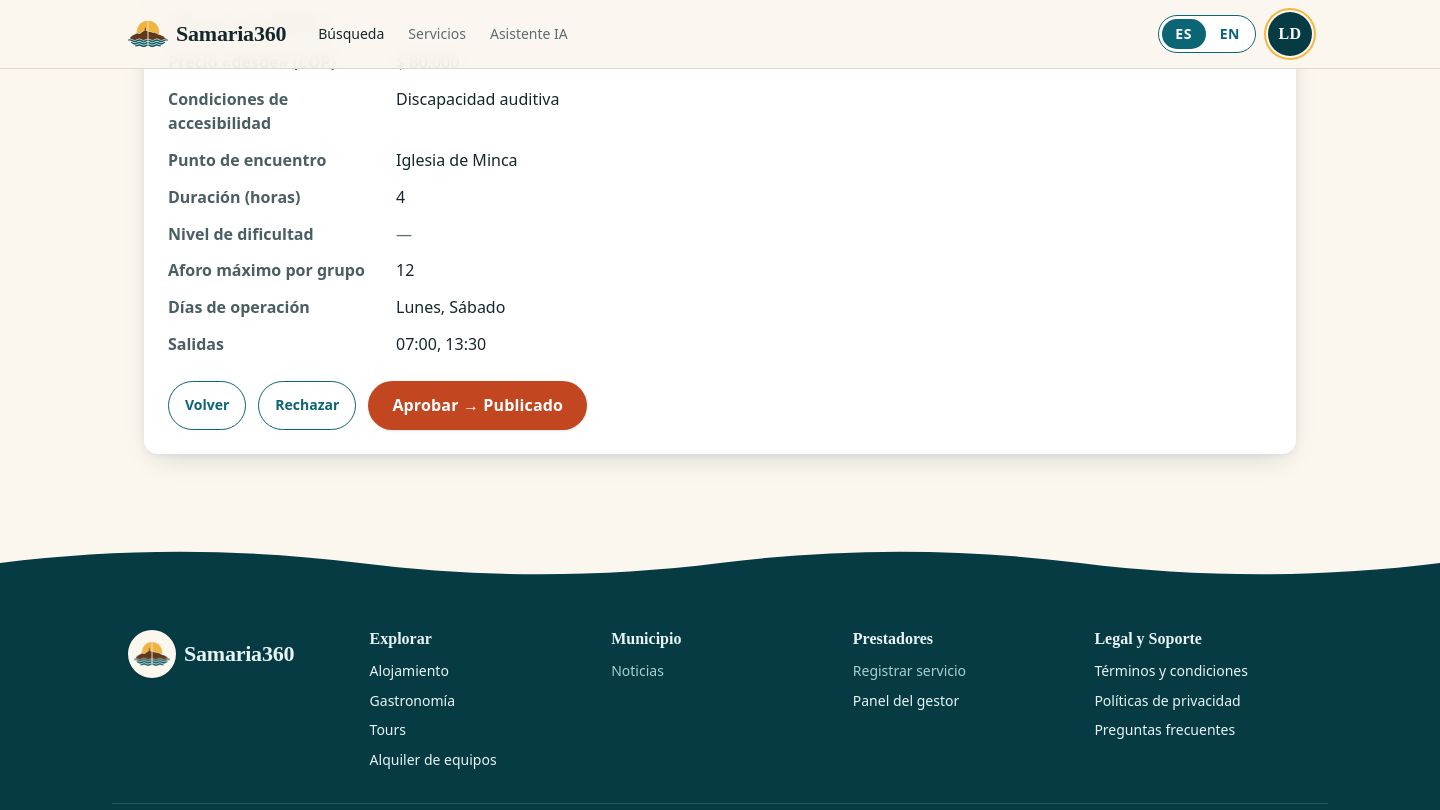
Test: Rechazar con justificación («Justificar rechazo de servicio», DEC-177) › un 400 DATOS_INVALIDOS de la justificación se muestra junto al campo y el diálogo sigue abierto
The image size is (1440, 810).
(page scrolled)
Click the button "Rechazar": (307,405) [258,381,356,430]
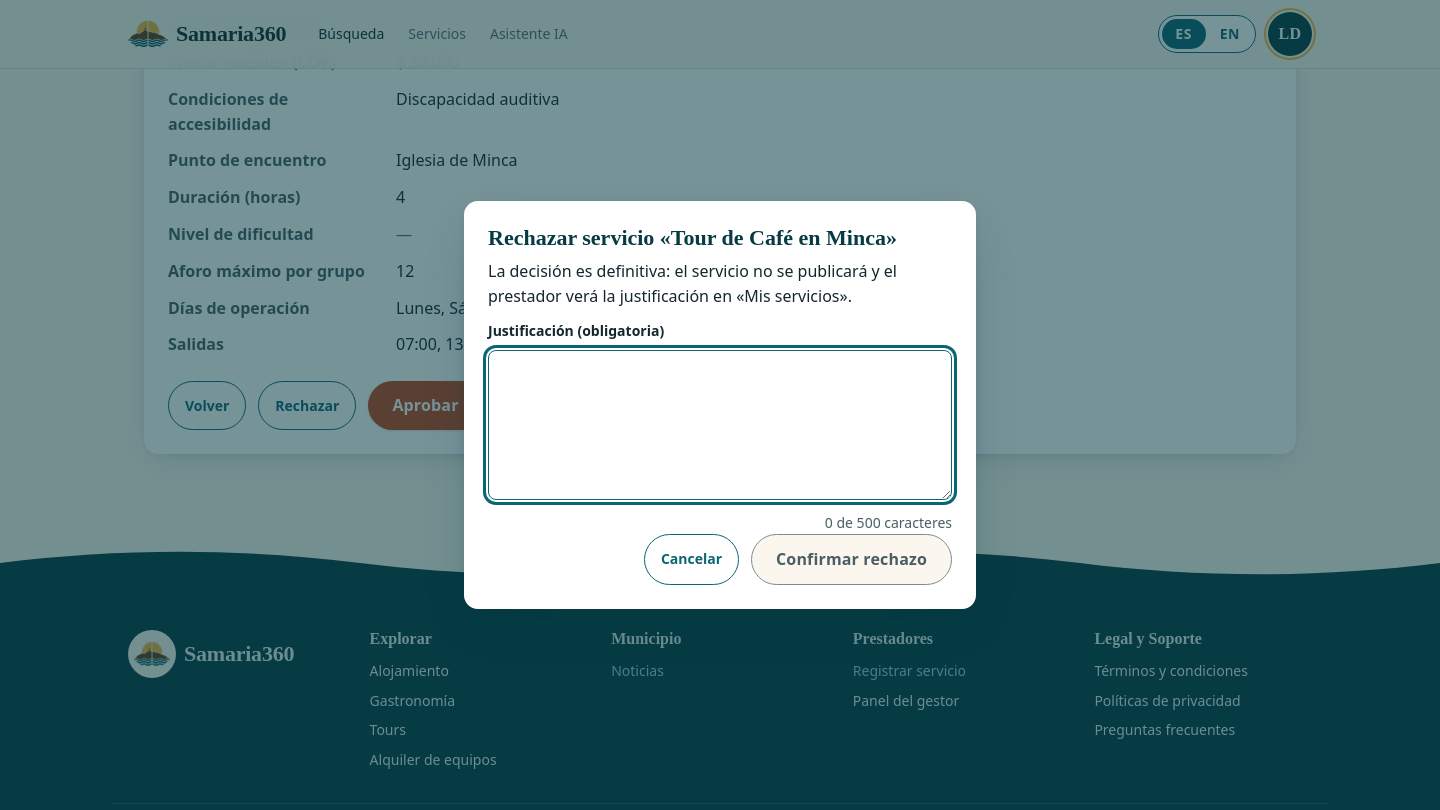
In the text box labelled "Justificación (obligatoria)": (720,425) [488,350,952,500], type "x"
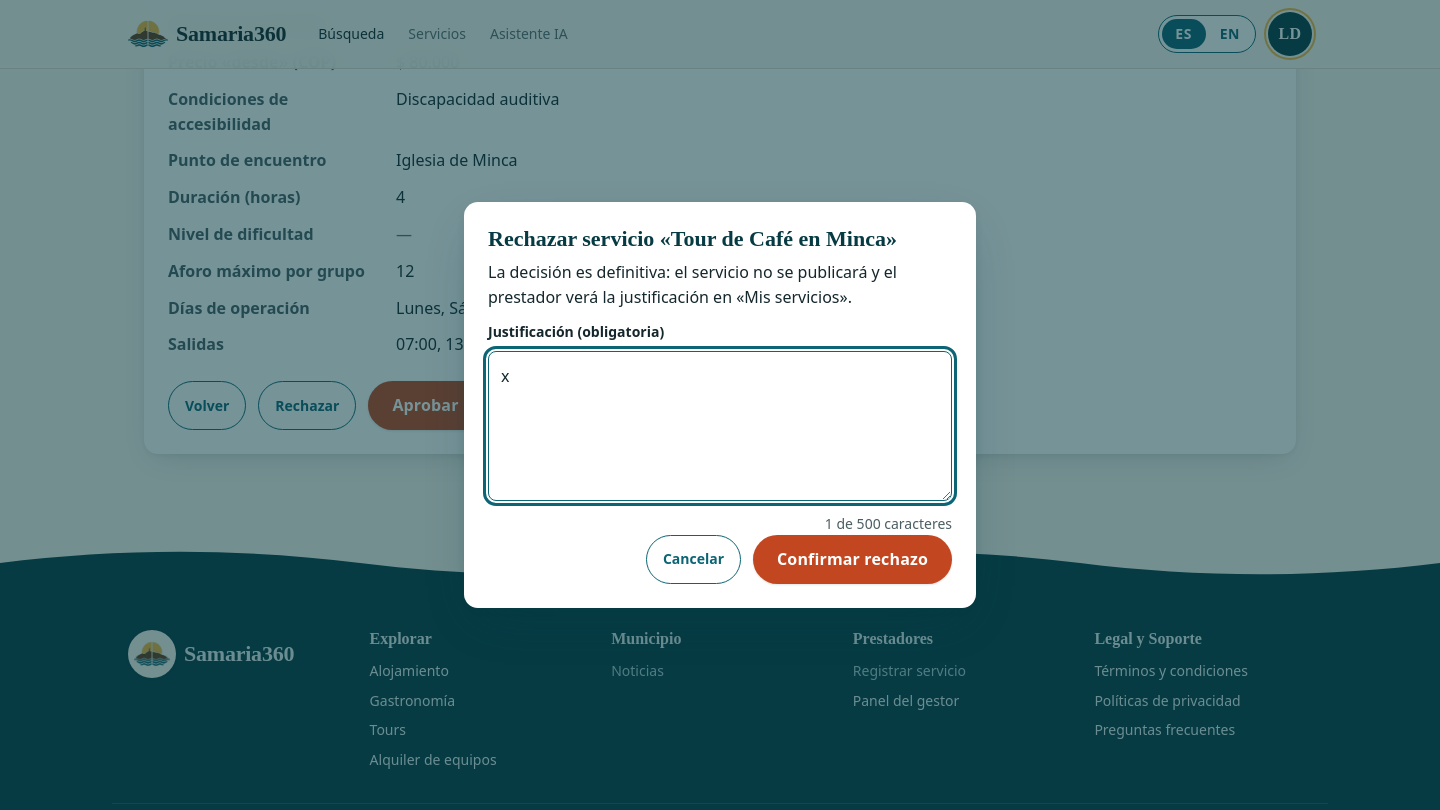
Click the button "Confirmar rechazo": (852,559) [753,535,952,584]
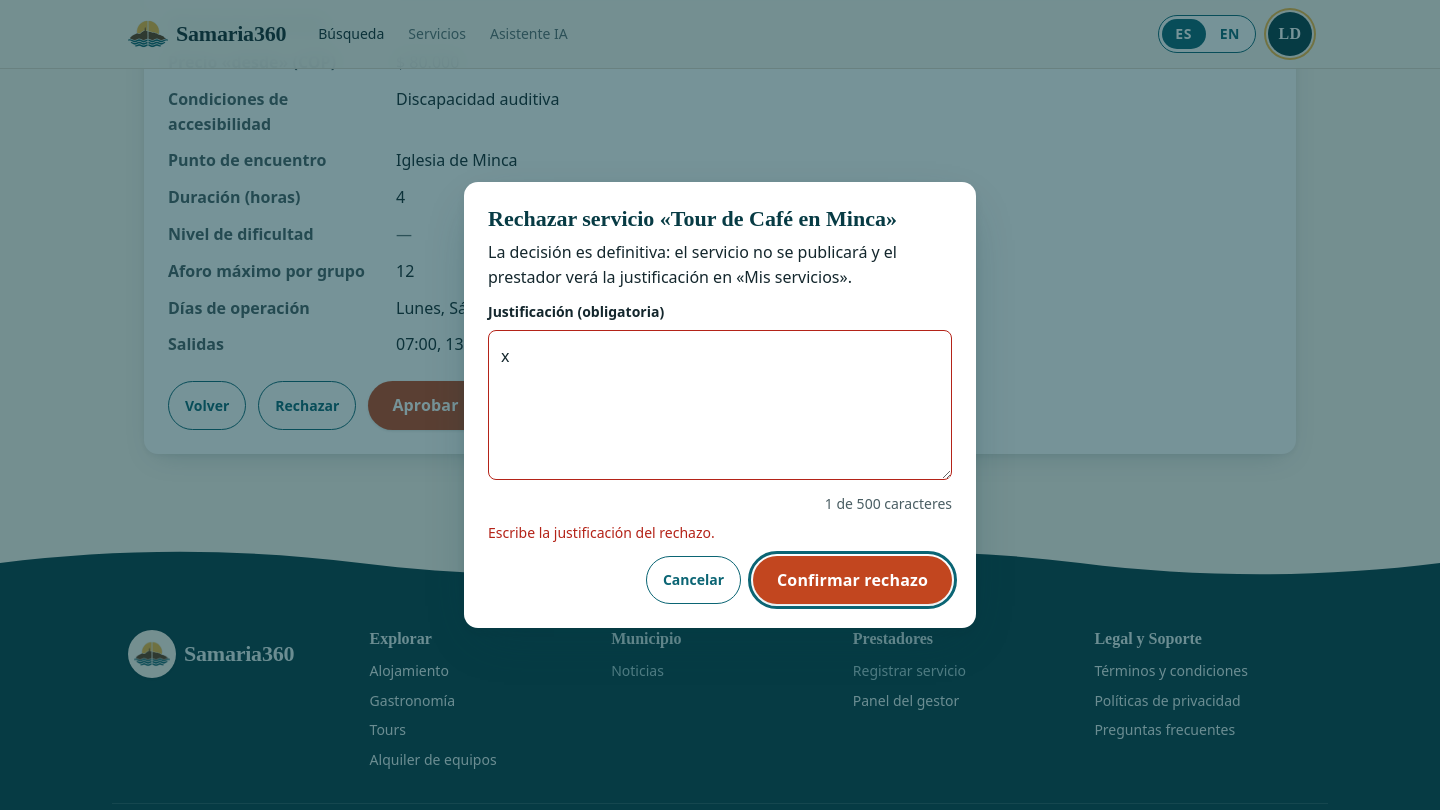
Expected: the message reads "Escribe la justificación del rechazo.", [488,523,715,542]
